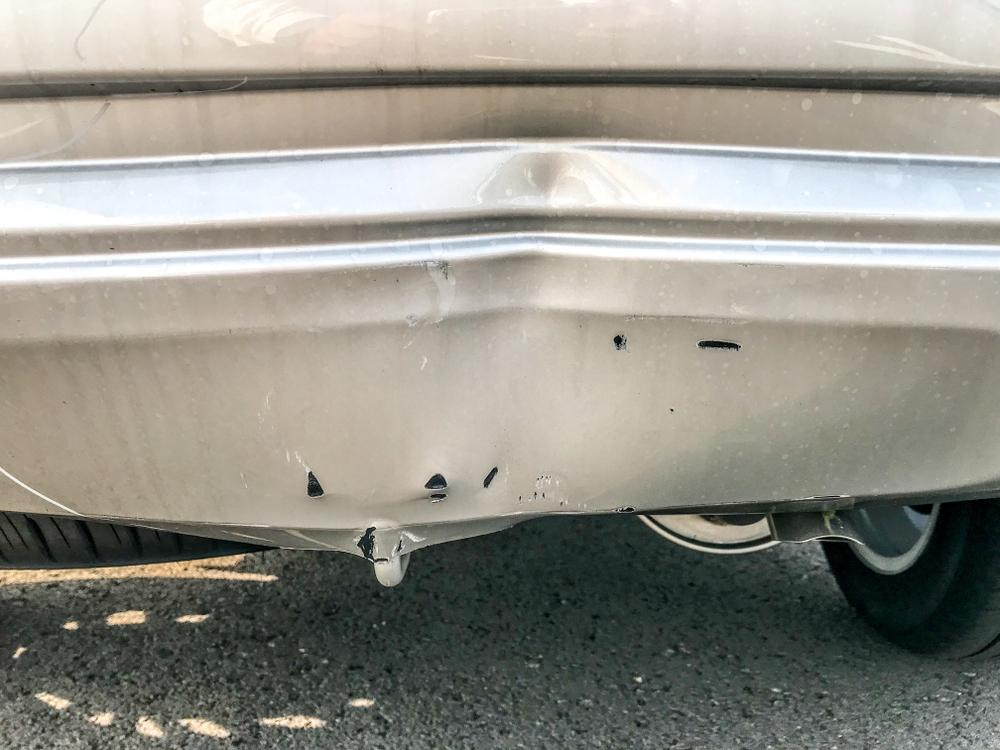dent: (428, 252, 748, 496), (480, 150, 635, 208)
